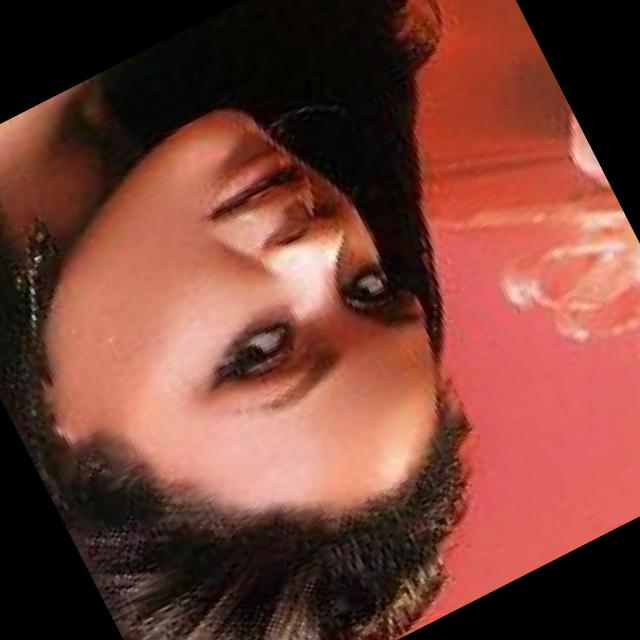bareface: (0, 59, 553, 640)
